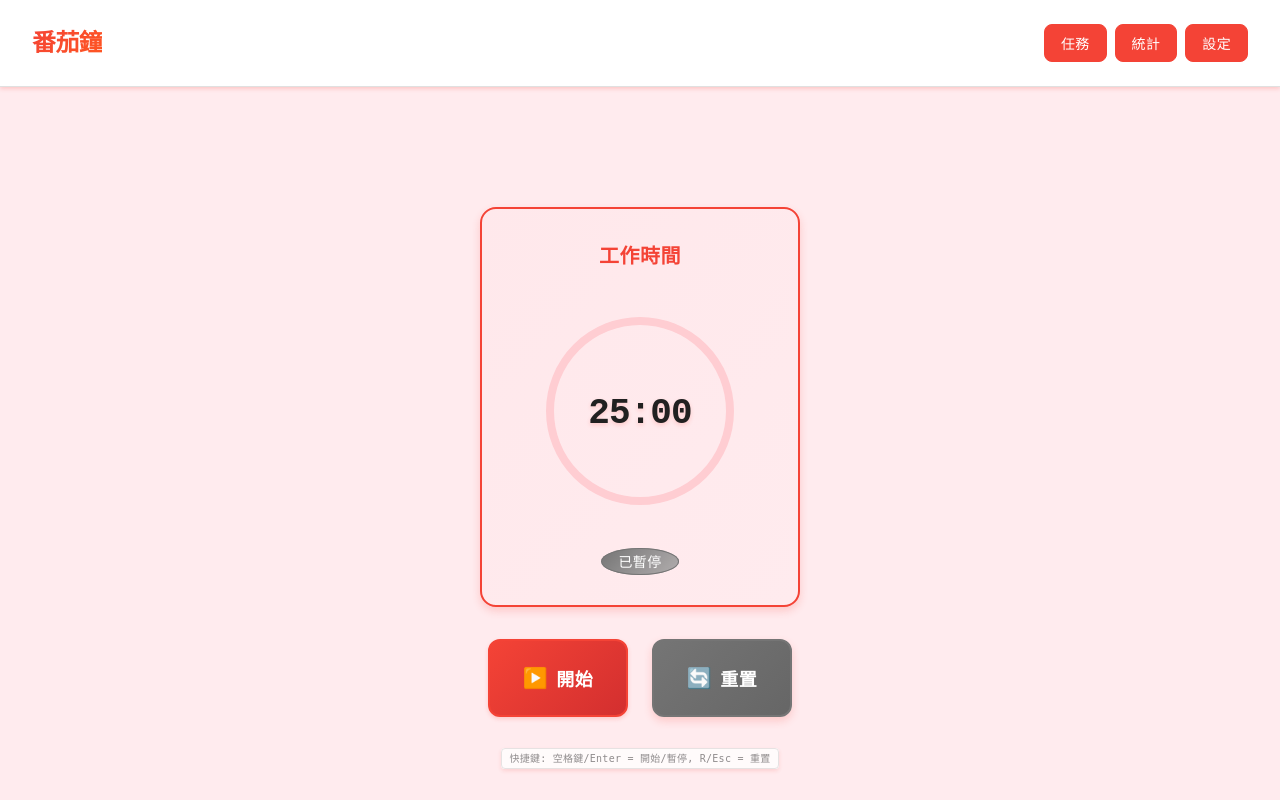
Test: End-to-End Tests - Core User Workflows › Navigation Workflow › should navigate between different panels
The image size is (1280, 800).
# Test tasks navigation
Click the button "任務" at coordinates (1075, 43), box [1044,24,1107,62]
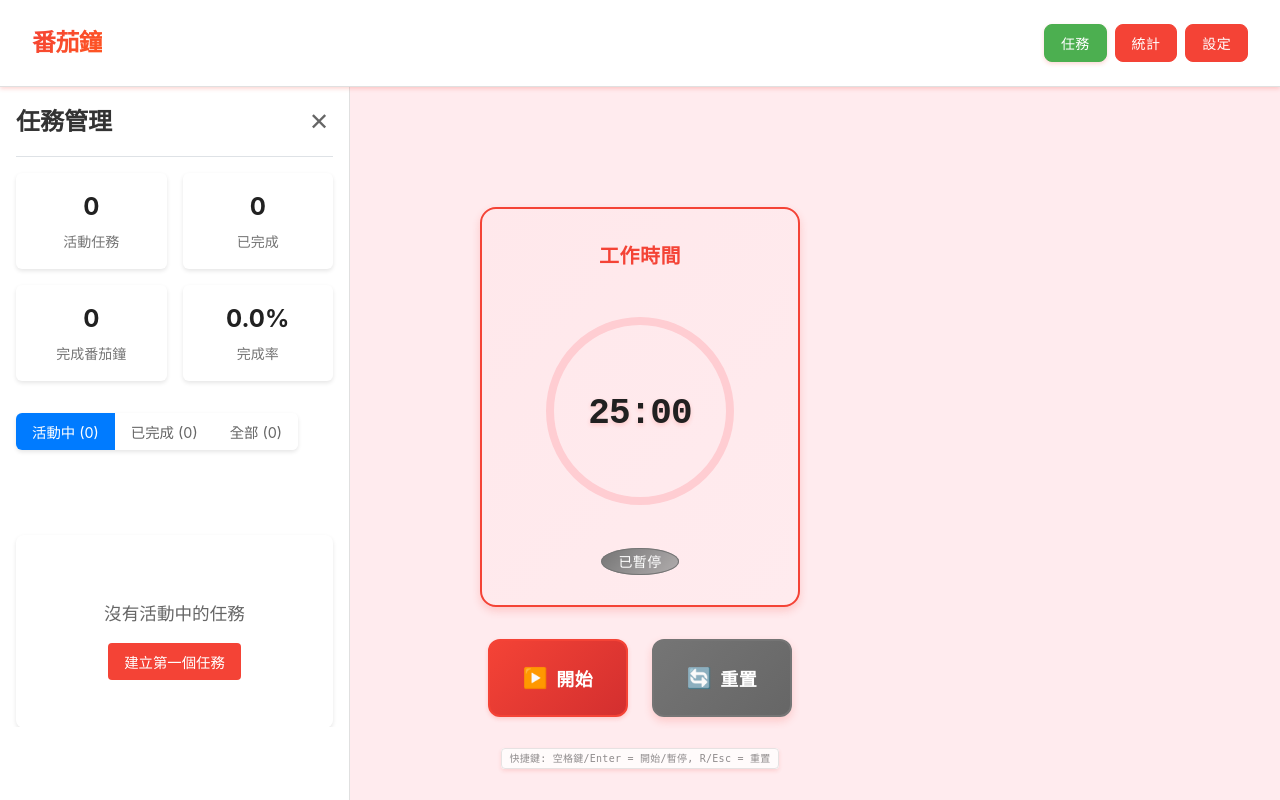
# Test stats navigation
Click the button "統計" at coordinates (1146, 43), box [1115,24,1177,62]
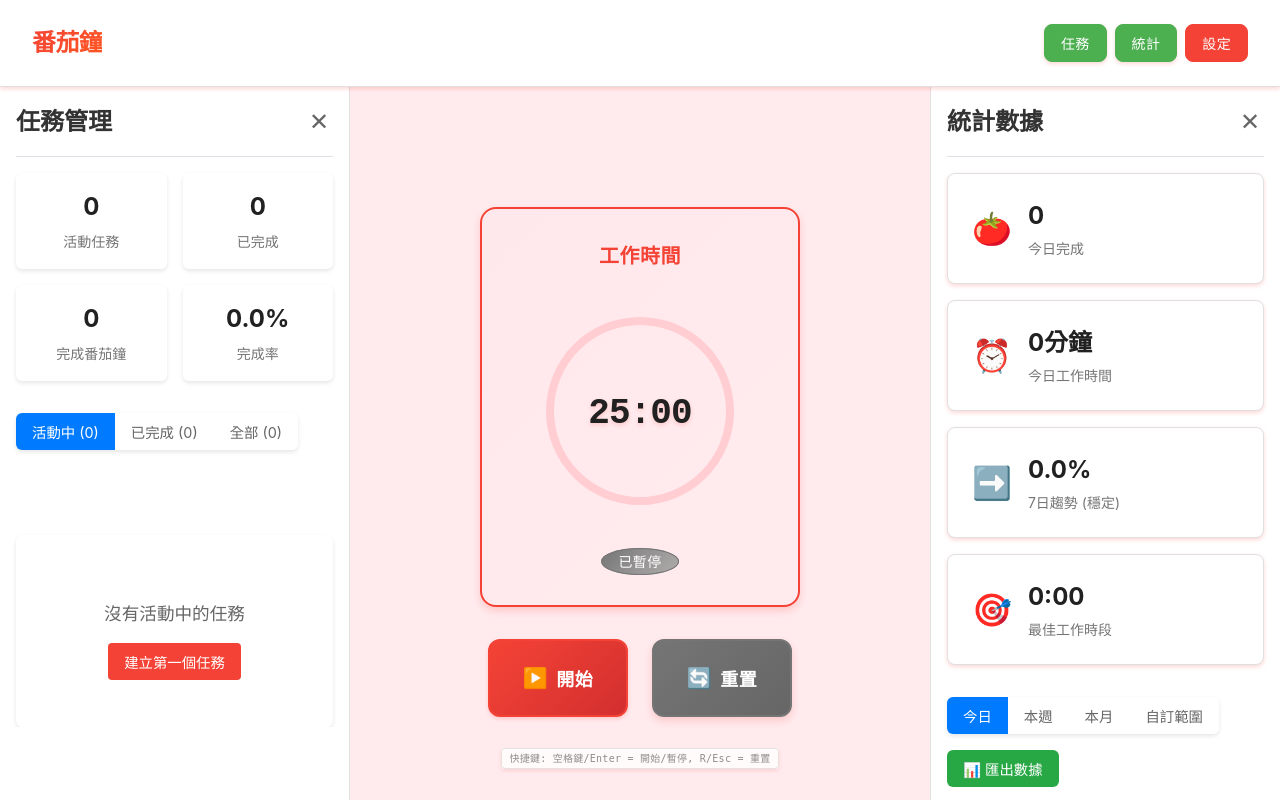
Expected: the text "今日完成" is shown, [1028,240,1084,257]
# Test settings navigation
Click the button "設定" at coordinates (1217, 43), box [1185,24,1248,62]
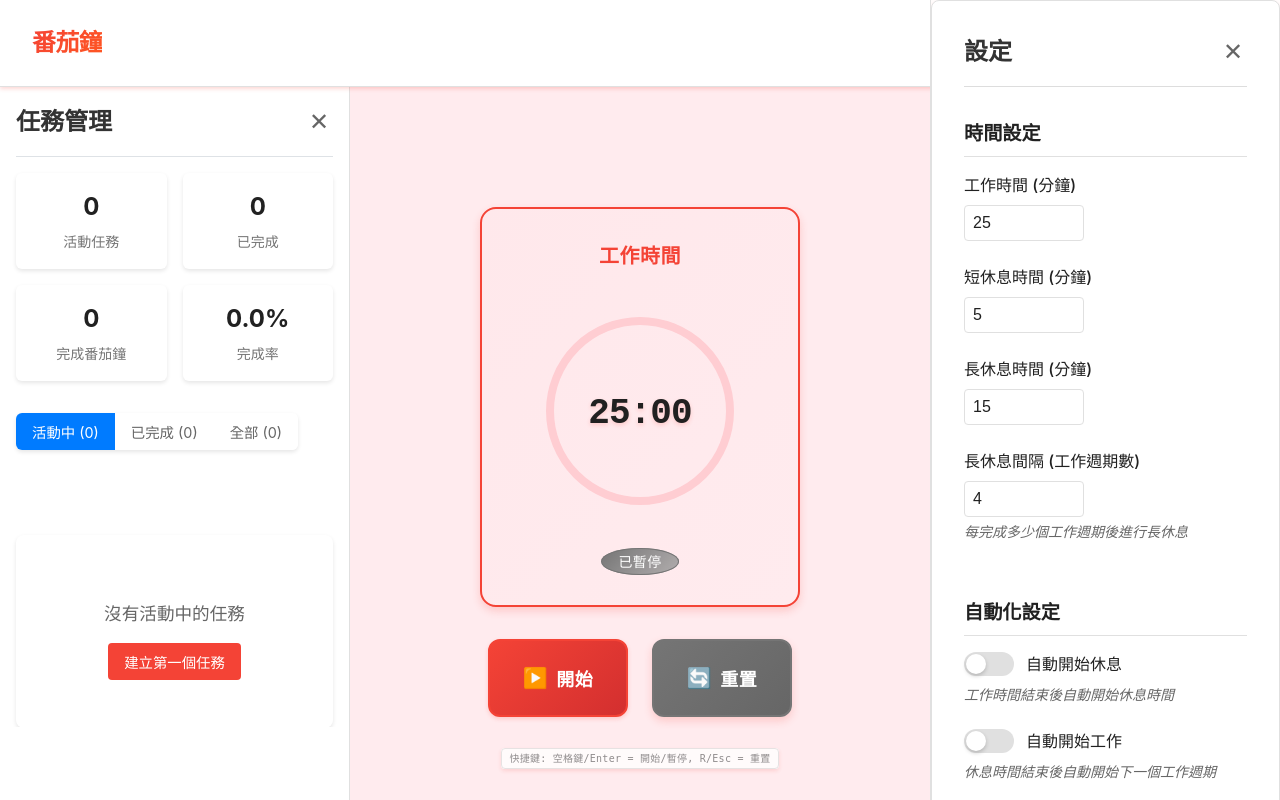
Expected: the number field showing "25" is shown, [964,205,1084,241]
